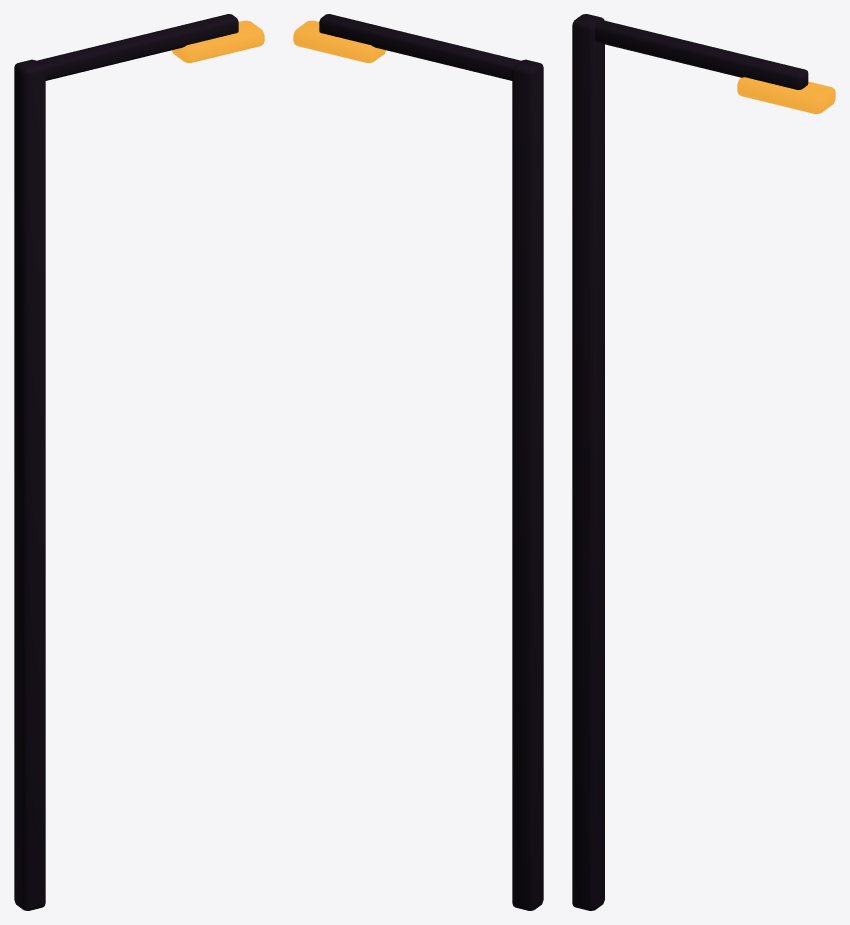
File: prop_lamp_post.glb
3 views of the same model, side by side, from view 1: azimuth 30°, elevation 25°; view 2: azimuth 150°, elevation 25°; view 3: azimuth 330°, elevation 25° (orthographic). The views are drawn at different scales.
Visible parts, largest first — view 1: prop_lamp_post; view 2: prop_lamp_post; view 3: prop_lamp_post.
Boxes of the visible parts, bbox=[...] form: prop_lamp_post: bbox=[14, 14, 264, 910]; prop_lamp_post: bbox=[293, 14, 543, 910]; prop_lamp_post: bbox=[572, 14, 835, 910].
Size of the model in its own units: 2.67 by 9 by 0.35.
